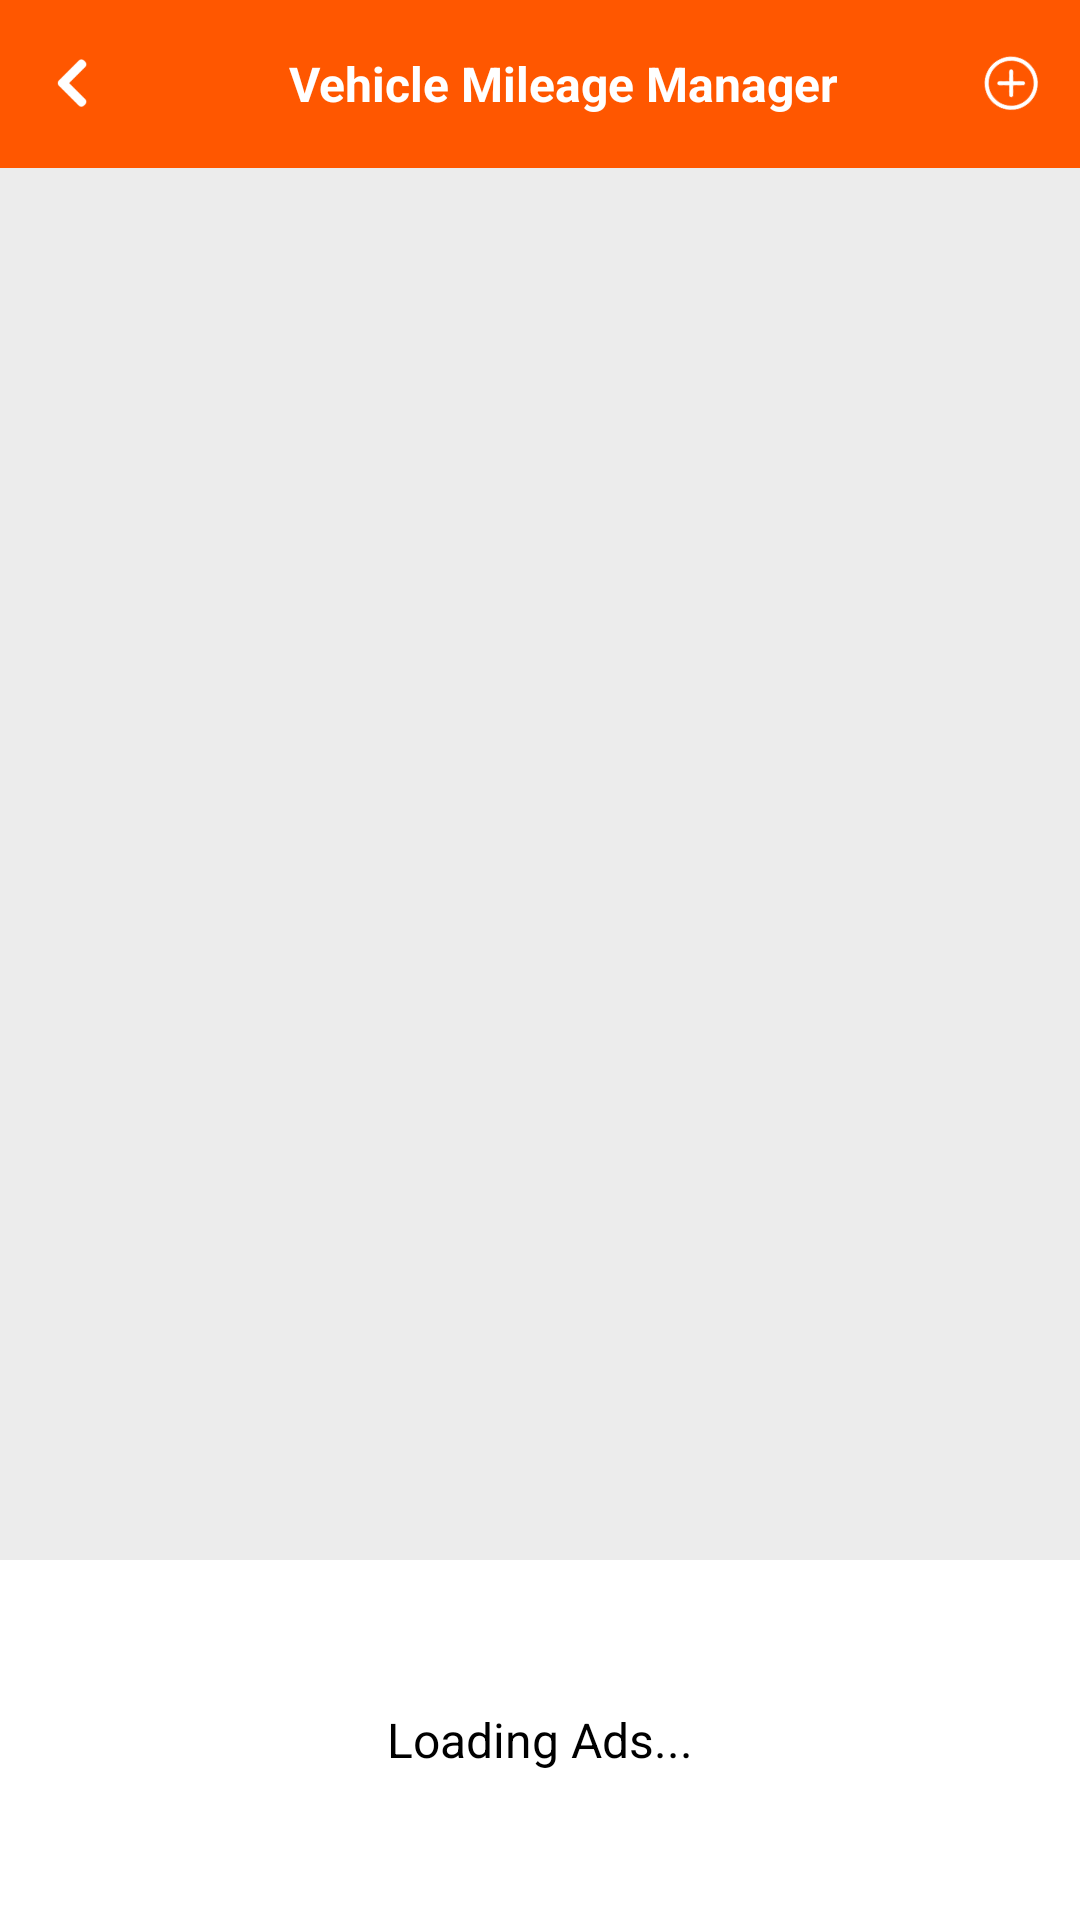

Icon bounding boxes for this 1080*1920 phone screenshot, format (left=x1, top=y1, right=x2, bottom=y2):
add: (left=984, top=56, right=1038, bottom=110)
back: (left=57, top=59, right=87, bottom=107)
